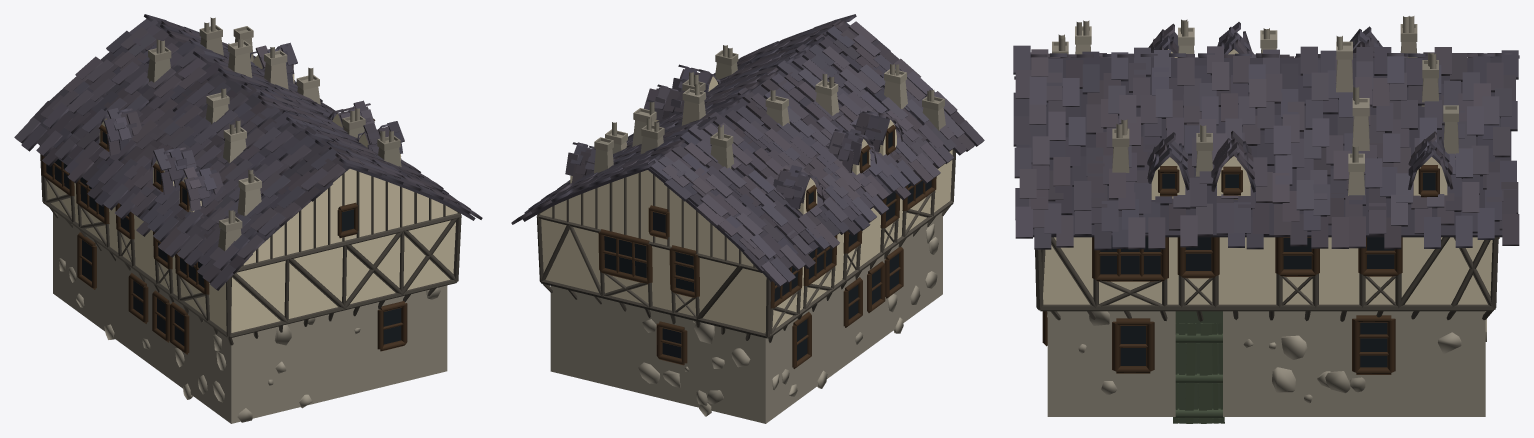
File: house_29.glb
3 views of the same model, side by side, from view 1: azimuth 30°, elevation 25°; view 2: azimuth 150°, elevation 25°; view 3: azimuth 270°, elevation 25° (orthographic). The views are drawn at different scales.
Parts seen in each view (by area): view 1: house_29; view 2: house_29; view 3: house_29.
Part boxes in pixels (box(x1,y1,x2,y2)): house_29: box(14, 14, 482, 423); house_29: box(511, 14, 984, 423); house_29: box(1013, 16, 1519, 423).
Bounding box in the file's own units: 7.39 × 7.14 × 9.62.
